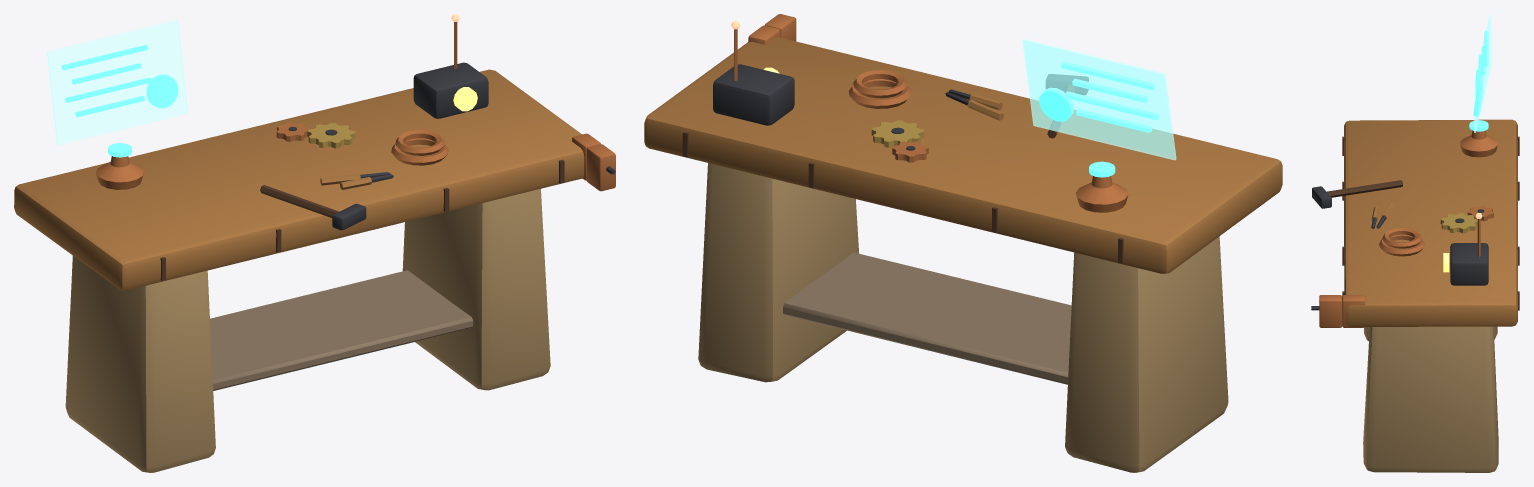
File: deco_workbench.fbx
The picture shows the model from 3 angles, left to right: view 1: azimuth 30°, elevation 25°; view 2: azimuth 150°, elevation 25°; view 3: azimuth 270°, elevation 25°; orthographic projection. The views are drawn at different scales.
Parts seen in each view (by area): view 1: Workbench_Top, Workbench_Legs, Workbench_LowShelf, Workbench_HoloPanel, Workbench_Tools, Workbench_Device, Workbench_Vise, Workbench_HoloEmitter; view 2: Workbench_Top, Workbench_Legs, Workbench_LowShelf, Workbench_HoloPanel, Workbench_Tools, Workbench_Device, Workbench_HoloEmitter, Workbench_Vise; view 3: Workbench_Top, Workbench_Legs, Workbench_Tools, Workbench_Device, Workbench_Vise, Workbench_HoloPanel, Workbench_HoloEmitter.
Part boxes in pixels (x1,y1,x2,y2): Workbench_Top: (14, 69, 584, 290); Workbench_Legs: (65, 189, 550, 472); Workbench_LowShelf: (210, 270, 473, 390); Workbench_HoloPanel: (47, 20, 188, 145); Workbench_Tools: (260, 122, 448, 230); Workbench_Device: (413, 14, 488, 118); Workbench_Vise: (572, 133, 615, 191); Workbench_HoloEmitter: (96, 143, 143, 189); Workbench_Top: (644, 37, 1282, 273); Workbench_Legs: (698, 163, 1228, 472); Workbench_LowShelf: (783, 252, 1071, 384); Workbench_HoloPanel: (1022, 39, 1176, 160); Workbench_Tools: (849, 70, 1088, 162); Workbench_Device: (713, 20, 794, 125); Workbench_HoloEmitter: (1076, 161, 1128, 212); Workbench_Vise: (748, 14, 796, 44); Workbench_Top: (1342, 119, 1519, 326); Workbench_Legs: (1363, 326, 1498, 472); Workbench_Tools: (1312, 180, 1493, 256); Workbench_Device: (1443, 213, 1488, 285); Workbench_Vise: (1311, 295, 1365, 327); Workbench_HoloPanel: (1473, 14, 1491, 132); Workbench_HoloEmitter: (1460, 120, 1497, 157).
Size of the model in its own units: 230 by 170 by 108.
